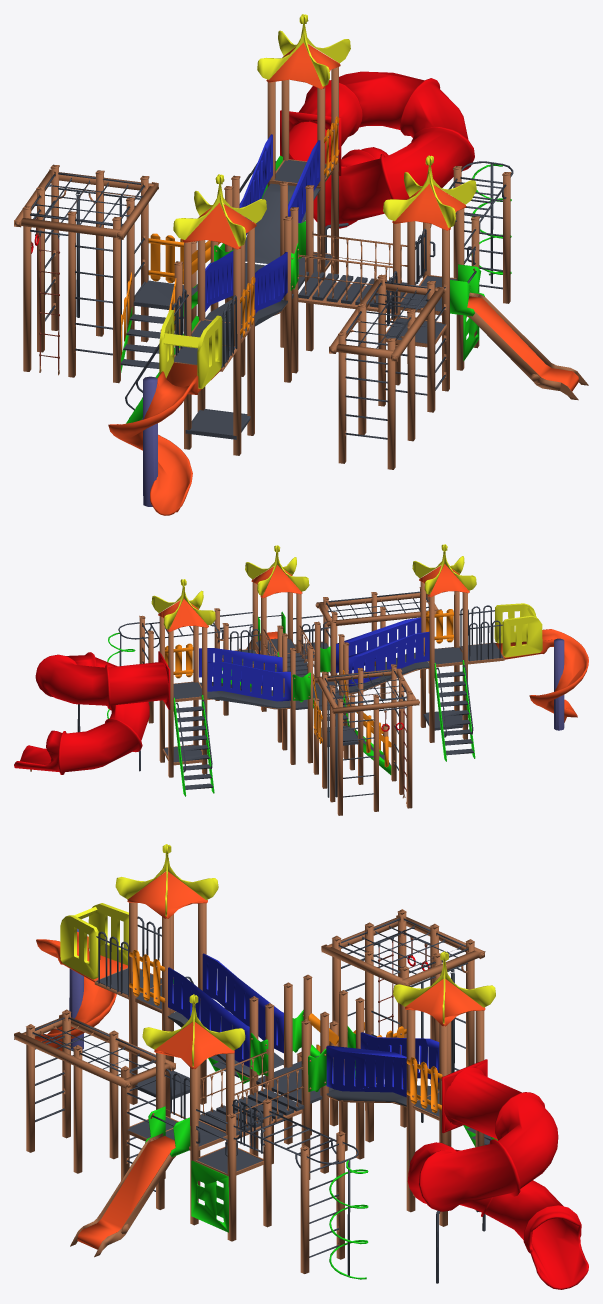
File: juegos.obj
The picture shows the model from 3 angles, top to bottom: view 1: azimuth 30°, elevation 25°; view 2: azimuth 150°, elevation 25°; view 3: azimuth 270°, elevation 25°; orthographic projection. The views are drawn at different scales.
Visible parts, largest first — view 1: Juegos1_MOBILIARIO_DINOPARQUE; view 2: Juegos1_MOBILIARIO_DINOPARQUE; view 3: Juegos1_MOBILIARIO_DINOPARQUE.
Boxes of the visible parts, <box> form: Juegos1_MOBILIARIO_DINOPARQUE: <box>14,14,588,515</box>; Juegos1_MOBILIARIO_DINOPARQUE: <box>14,544,588,815</box>; Juegos1_MOBILIARIO_DINOPARQUE: <box>14,844,588,1289</box>.
Bounding box in the file's own units: 77.39 × 35.87 × 71.32.
Materials: 1 (1 with a texture image).
